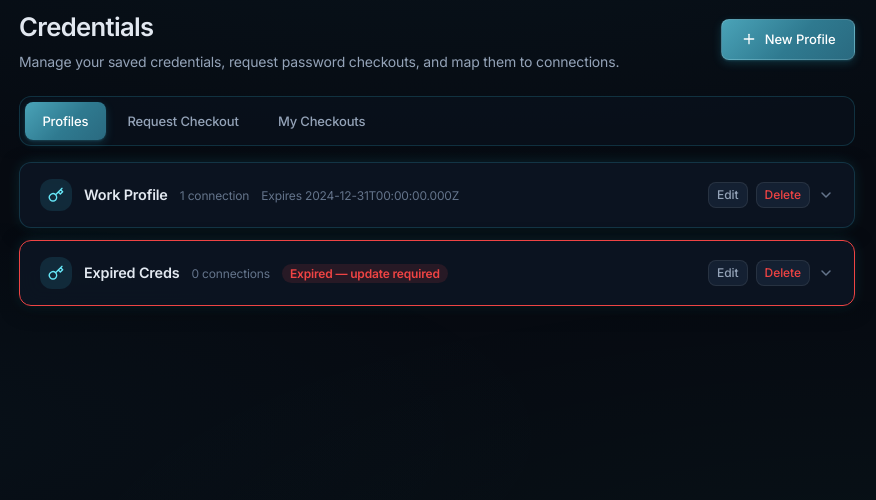
Test: Credentials › expands profile to show mappings
Note: Click the profile header to expand
Click the text "Work Profile". click: (126, 195)
box: 84,186 -> 168,203
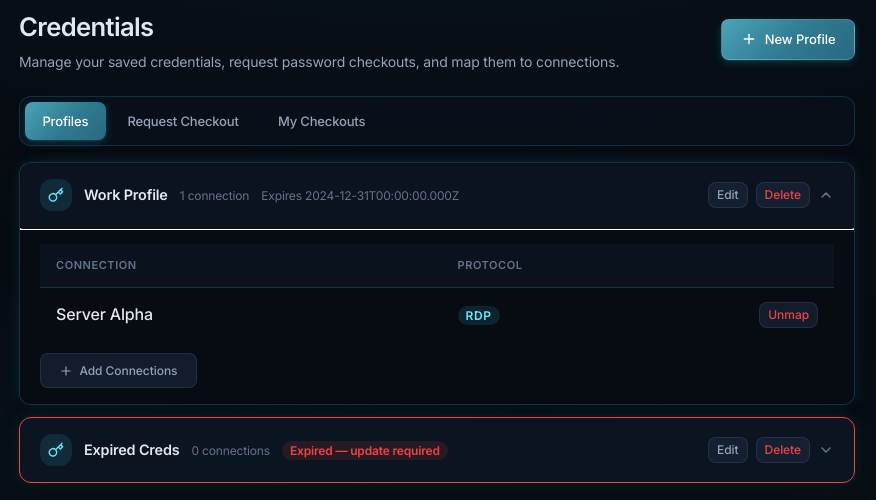
Check: the text "Server Alpha" is shown, box 40,288 -> 442,341
Check: the button "Unmap" is shown, box 759,302 -> 818,328
